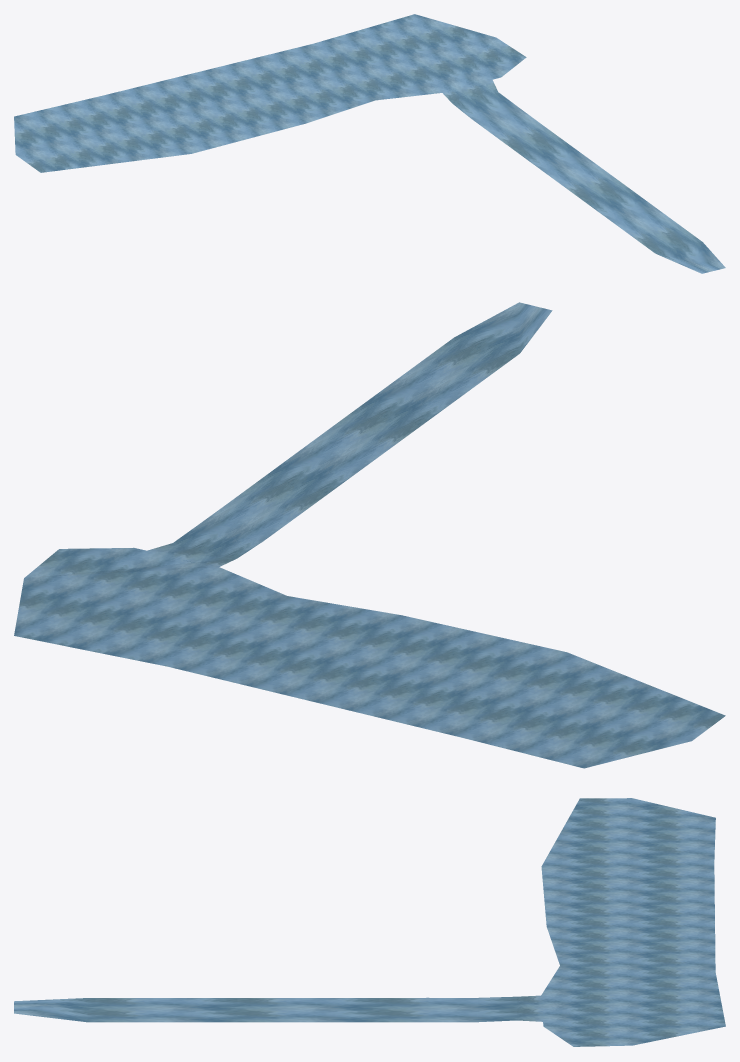
The model's file is ncwater01.glb.
3 renders of one model, top to bottom at view 1: azimuth 30°, elevation 25°; view 2: azimuth 150°, elevation 25°; view 3: azimuth 270°, elevation 25°, orthographic. The views are drawn at different scales.
Visible parts, largest first — view 1: ncwater01; view 2: ncwater01; view 3: ncwater01.
Part boxes in pixels (x1,y1,x2,y2): ncwater01: [14, 14, 725, 273]; ncwater01: [14, 302, 725, 768]; ncwater01: [14, 798, 725, 1046].
Bounding box in the file's own units: 11725 × 124 × 14179.
1 material, 1 textured.
